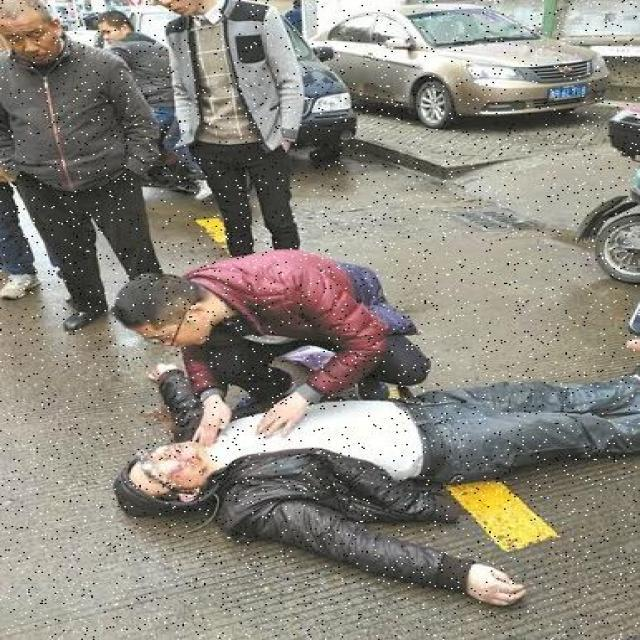fall: (96, 358, 638, 554)
